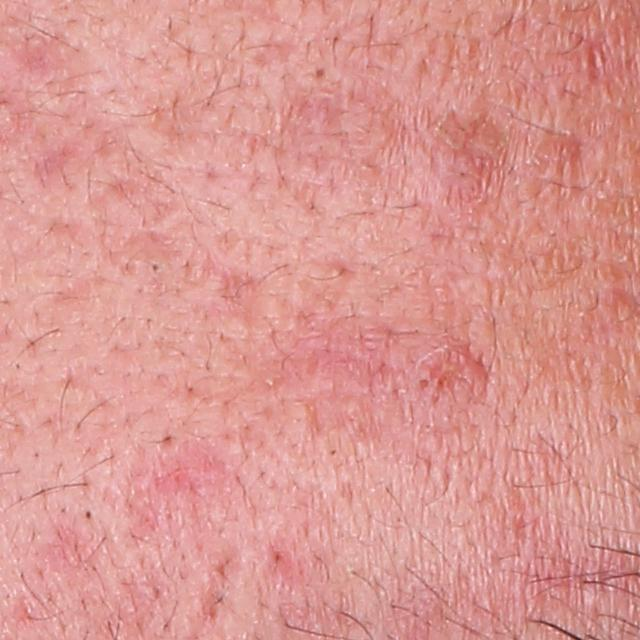comedo: (312, 63, 332, 84), (147, 259, 164, 276)
